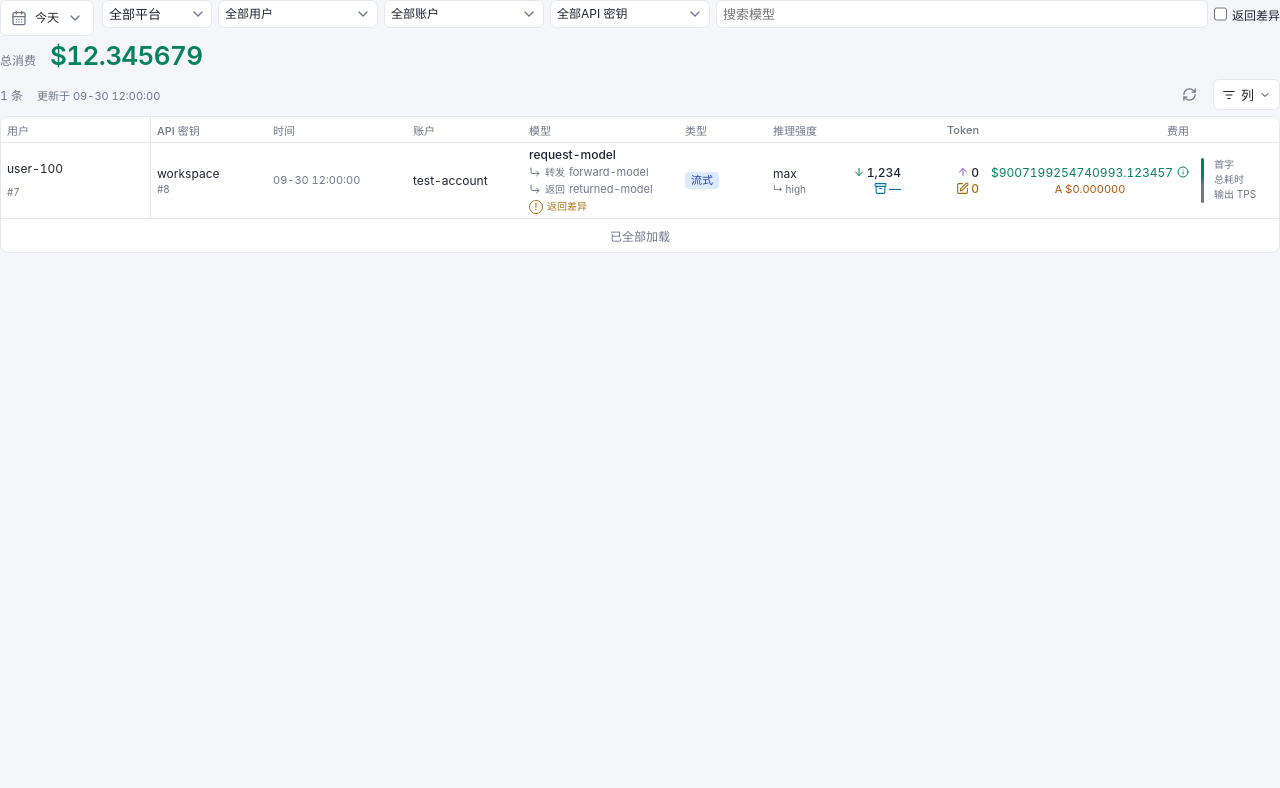
Scenario: record view › defers a midnight date change while holding detail until an explicit refresh
Click the button with id "100". click: (67, 180)
box: 7,159 -> 127,202
Wait 1000 ms
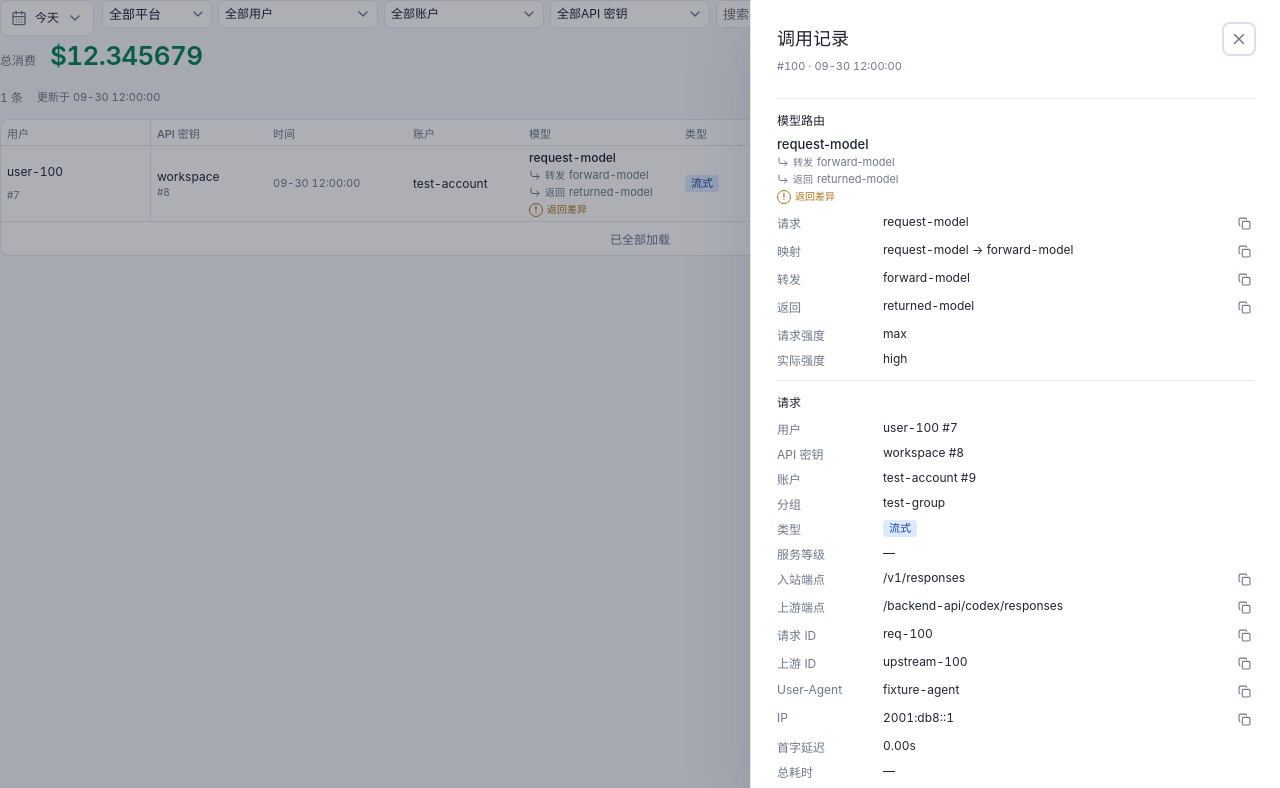
Expected: the button "日期已更新 · 刷新" is shown, 1045,79 -> 1167,113
Expected: the text "$12.345679" is shown, 50,40 -> 202,71
Click the button named "关闭详情". click: (1239, 39)
box: 1224,24 -> 1254,54
Wait 1000 ms
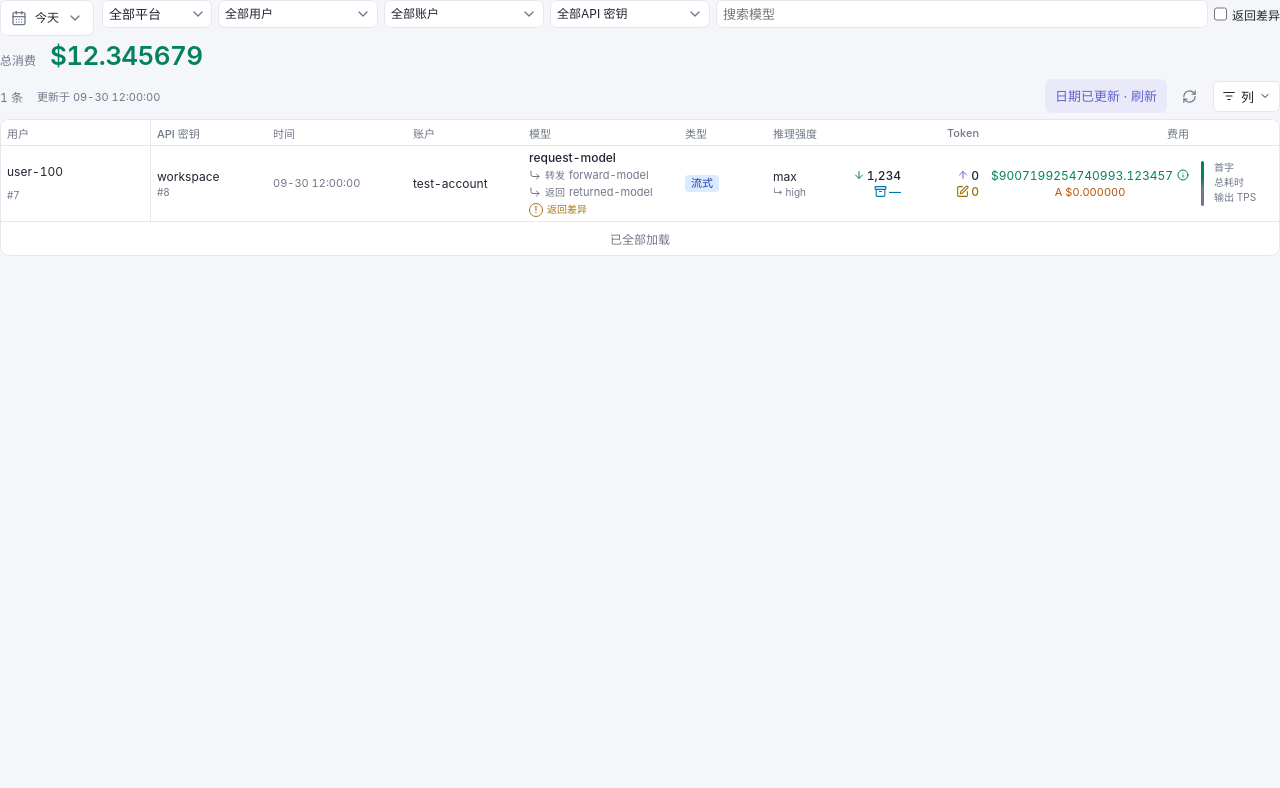
Expected: the button "日期已更新 · 刷新" is shown
Click the button "日期已更新 · 刷新". click: (1106, 96)
box: 1045,79 -> 1167,113
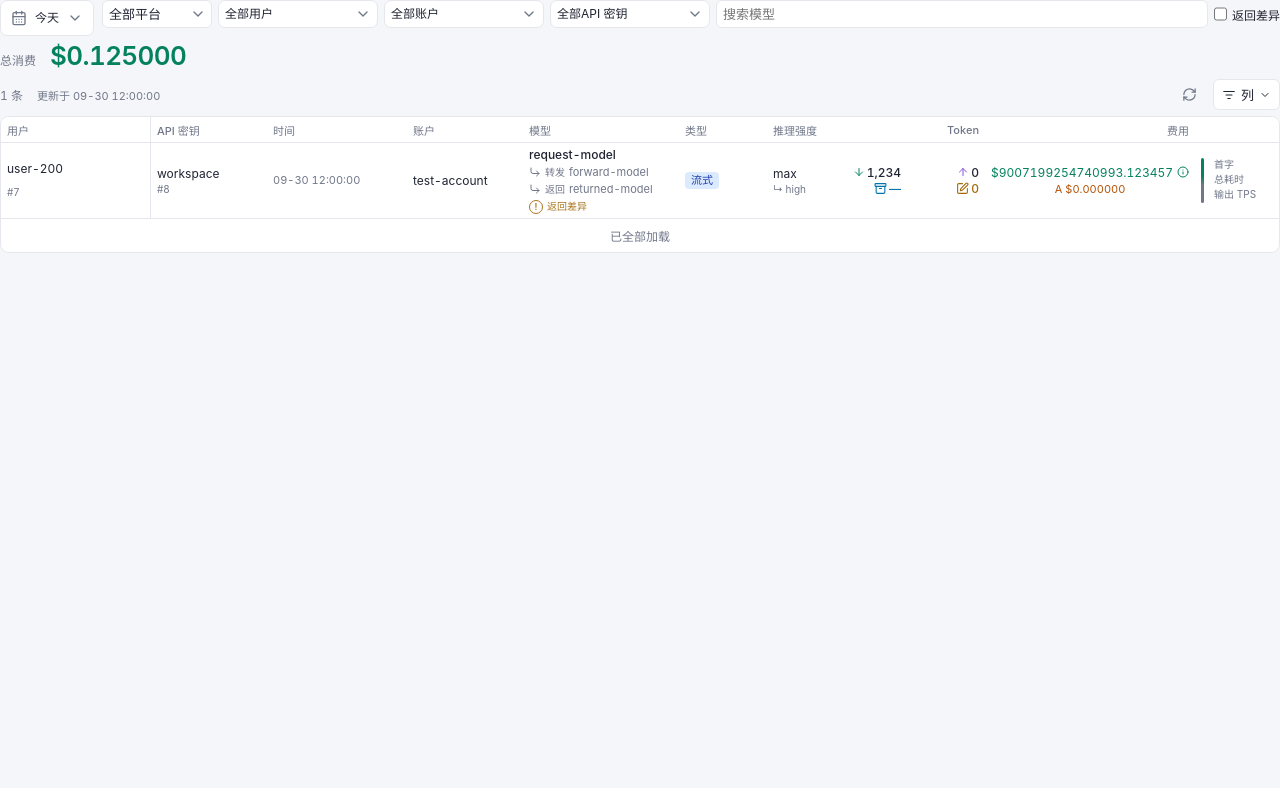
Expected: the text "$0.125000" is shown, 50,40 -> 186,71
Expected: the text "user-200" is shown, 7,159 -> 63,179
Expected: the text "user-100" is gone
